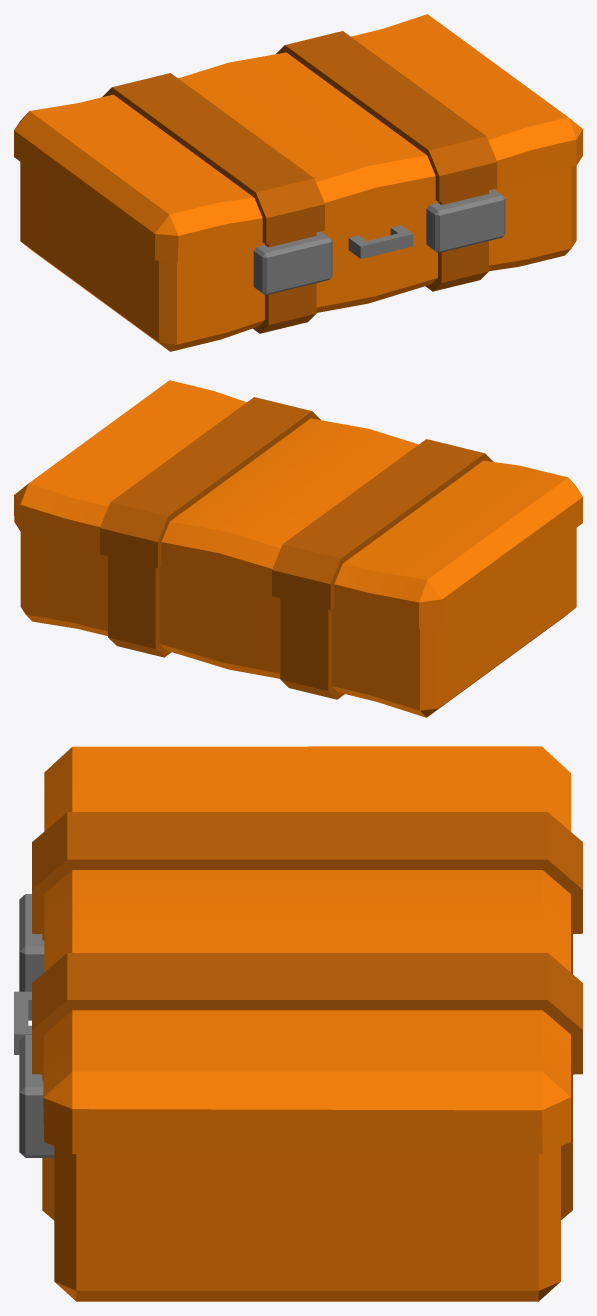
File: model_polytope_suitcase02.fbx
The picture shows the model from 3 angles, top to bottom: view 1: azimuth 30°, elevation 25°; view 2: azimuth 150°, elevation 25°; view 3: azimuth 270°, elevation 25°; orthographic projection. The views are drawn at different scales.
Parts seen in each view (by area): view 1: model_polytope_suitcase02; view 2: model_polytope_suitcase02; view 3: model_polytope_suitcase02.
Boxes of the visible parts, x1,y1,x2,y2 form: model_polytope_suitcase02: (14,14,582,351); model_polytope_suitcase02: (14,380,582,717); model_polytope_suitcase02: (14,746,582,1301).
Size of the model in its own units: 107 by 34.08 by 73.37.
